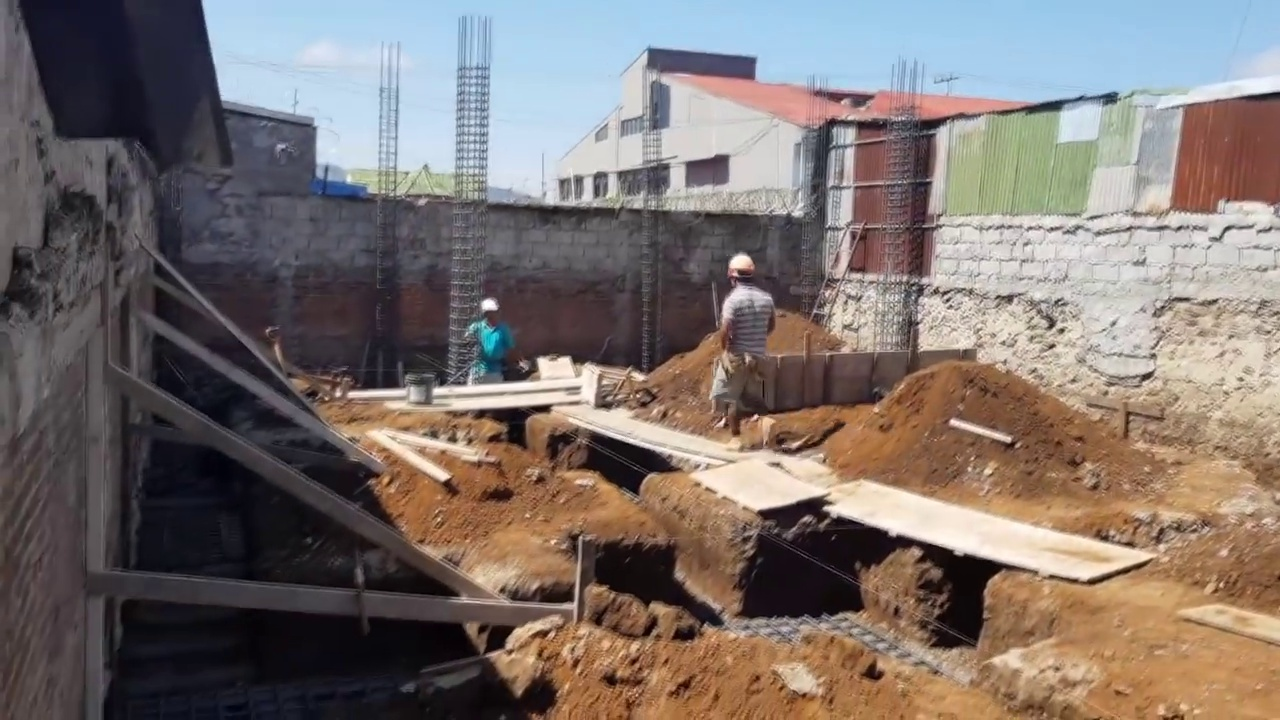helmet: (726, 253, 755, 278), (480, 296, 501, 311)
helmet-on: (726, 253, 756, 290), (479, 296, 502, 325)
person: (716, 249, 780, 454), (466, 295, 518, 385)
